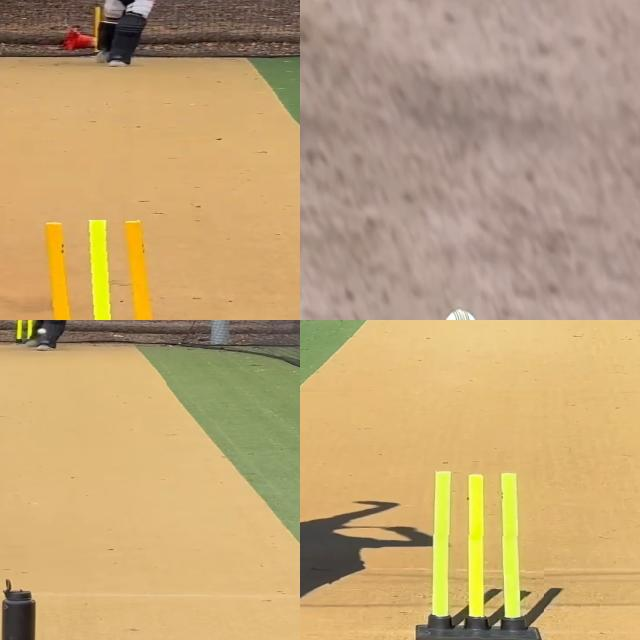Cricket ball: (35, 327, 49, 335)
Stumps: (413, 466, 545, 640), (23, 220, 159, 320)
